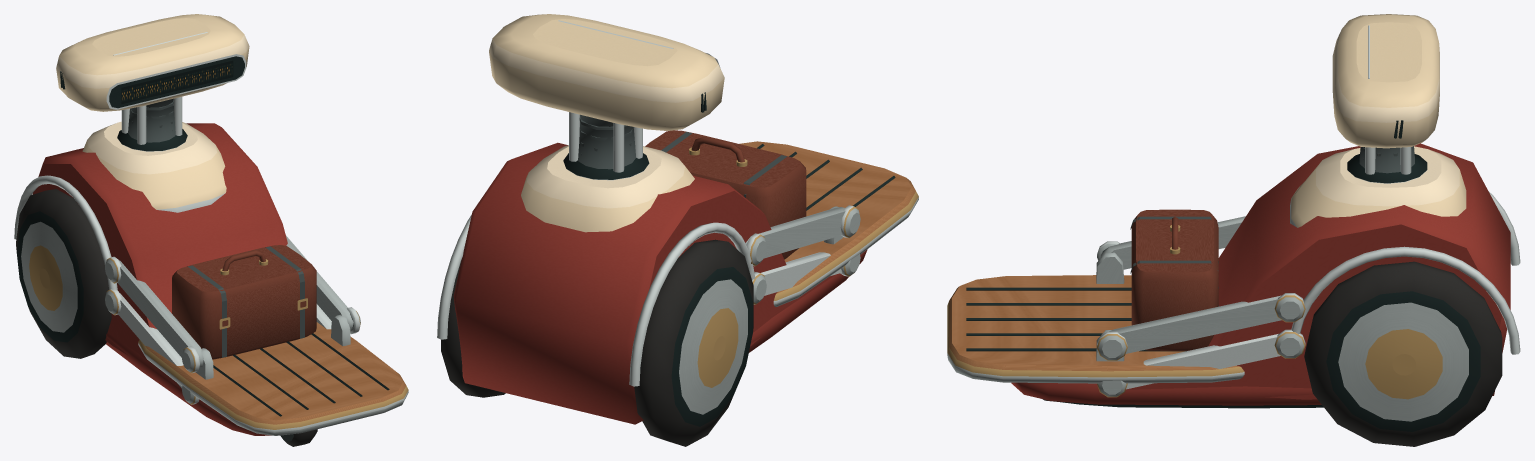
Rendered from Porter-L1.fbx.
3 views of the same model, side by side, from view 1: azimuth 30°, elevation 25°; view 2: azimuth 150°, elevation 25°; view 3: azimuth 270°, elevation 25° (orthographic). The views are drawn at different scales.
Parts seen in each view (by area): view 1: Porter_Body, Porter_Deck, Porter_Head, Porter_WheelL, Porter_LinkUpper, Porter_LinkLower, Porter_Head_Face; view 2: Porter_Body, Porter_Head, Porter_WheelL, Porter_Deck, Porter_LinkUpper, Porter_LinkLower, Porter_WheelR; view 3: Porter_Body, Porter_Deck, Porter_WheelR, Porter_Head, Porter_LinkUpper, Porter_LinkLower.
Part boxes in pixels (x1=…): Porter_Body: x1=14, y1=96, x2=287, y2=435; Porter_Deck: x1=138, y1=245, x2=408, y2=435; Porter_Head: x1=56, y1=14, x2=249, y2=111; Porter_WheelL: x1=16, y1=189, x2=111, y2=358; Porter_LinkUpper: x1=105, y1=235, x2=360, y2=373; Porter_LinkLower: x1=105, y1=289, x2=331, y2=404; Porter_Head_Face: x1=121, y1=60, x2=233, y2=104; Porter_Body: x1=437, y1=112, x2=867, y2=424; Porter_Head: x1=489, y1=14, x2=724, y2=130; Porter_WheelL: x1=634, y1=239, x2=753, y2=446; Porter_Deck: x1=645, y1=130, x2=918, y2=306; Porter_LinkUpper: x1=745, y1=205, x2=860, y2=266; Porter_LinkLower: x1=752, y1=252, x2=860, y2=304; Porter_WheelR: x1=441, y1=259, x2=505, y2=397; Porter_Body: x1=1011, y1=143, x2=1520, y2=408; Porter_Deck: x1=947, y1=209, x2=1244, y2=383; Porter_WheelR: x1=1304, y1=261, x2=1502, y2=446; Porter_Head: x1=1332, y1=14, x2=1439, y2=148; Porter_LinkUpper: x1=1097, y1=216, x2=1305, y2=360; Porter_LinkLower: x1=1097, y1=329, x2=1305, y2=397.
Bounding box in the file's own units: 0.9397 × 1.35 × 2.01.
2 materials, 2 textured.
